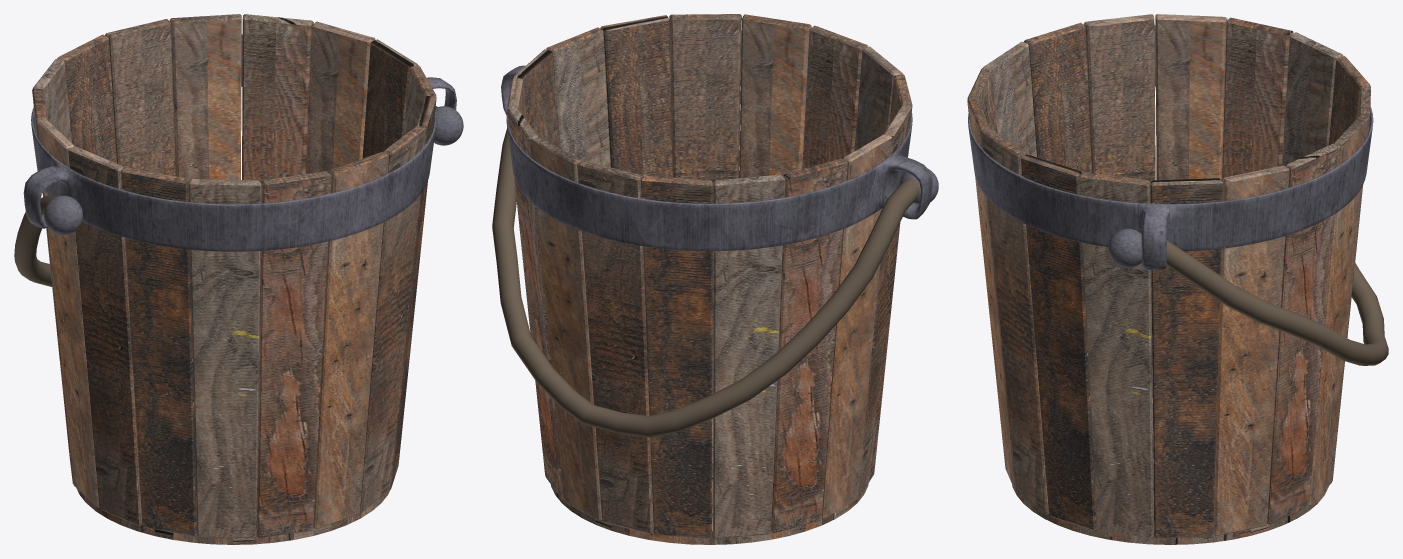
The model's file is Bucket no fill.fbx.
3 renders of one model, left to right at view 1: azimuth 30°, elevation 25°; view 2: azimuth 150°, elevation 25°; view 3: azimuth 270°, elevation 25°, orthographic.
Parts seen in each view (by area): view 1: bucket, metal bucket ring, bottom bucket, rope 2, ball bearing right, ball bearing left; view 2: bucket, metal bucket ring, rope 2, bottom bucket; view 3: bucket, metal bucket ring, rope 2, bottom bucket, ball bearing left.
Part boxes in pixels (x1,y1,x2,y2): bucket: (32,14,436,538); metal bucket ring: (23,34,456,251); bottom bucket: (76,409,389,544); rope 2: (14,106,437,286); ball bearing right: (44,195,83,234); ball bearing left: (434,106,463,145); bucket: (507,14,912,538); metal bucket ring: (501,41,932,251); rope 2: (492,128,918,437); bottom bucket: (551,418,868,544); bucket: (967,14,1370,538); metal bucket ring: (968,25,1373,270); rope 2: (1166,240,1388,365); bottom bucket: (1012,399,1328,544); ball bearing left: (1108,228,1141,267).
Size of the model in its own units: 46.42 by 39.68 by 40.03.
3 materials, 2 textured.
